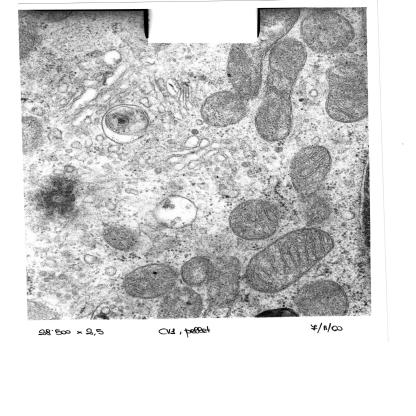mitochondria: (242, 228, 336, 294), (253, 34, 309, 144), (323, 59, 368, 123), (289, 146, 335, 198), (122, 262, 179, 301), (228, 199, 280, 240), (301, 12, 353, 53), (205, 252, 241, 310), (200, 91, 250, 128), (292, 282, 349, 314), (156, 287, 199, 317), (300, 199, 336, 228), (100, 226, 139, 250), (180, 255, 209, 287)
